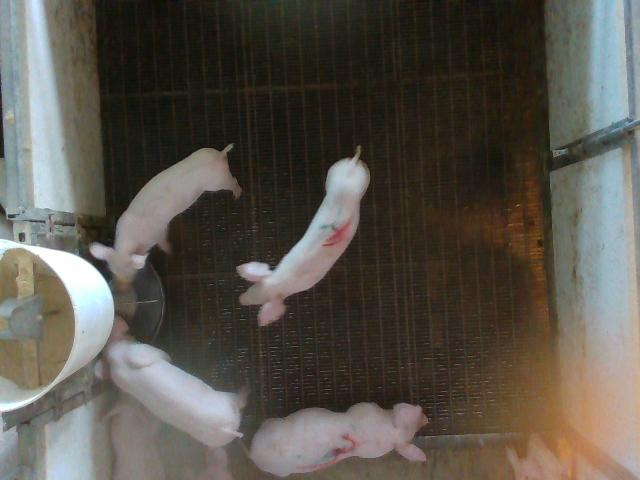pig-3: (249, 402, 428, 476)
pig-4: (236, 146, 370, 326)
